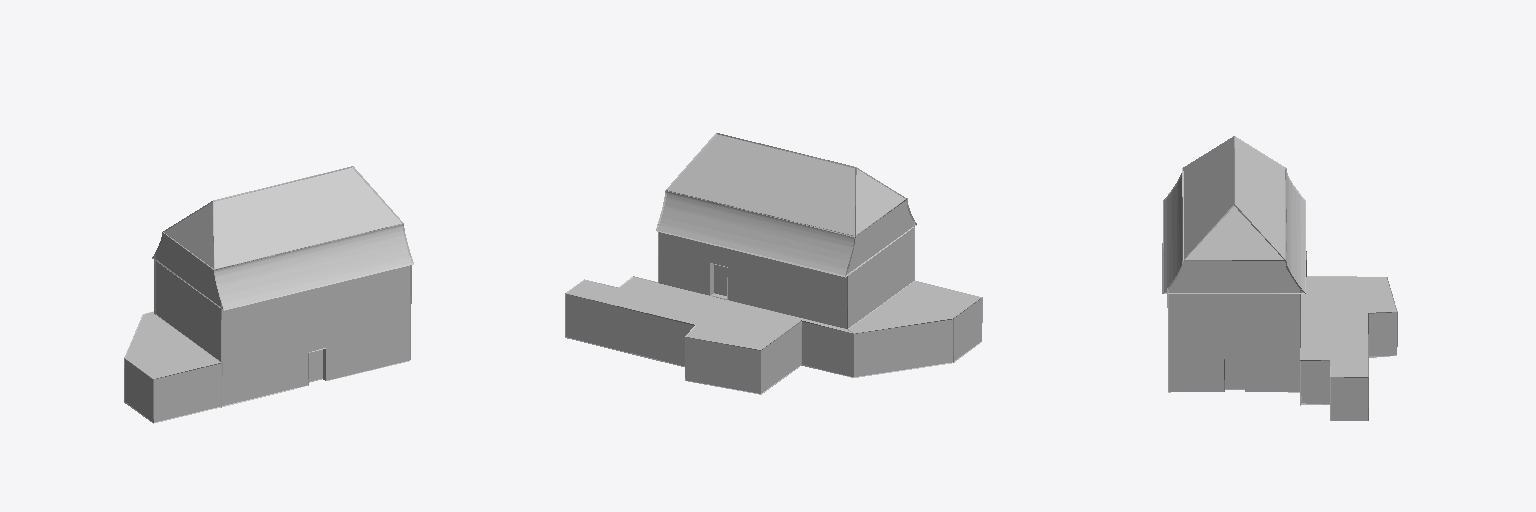
The model's file is W19_lines.obj.
3 renders of one model, left to right at view 1: azimuth 30°, elevation 25°; view 2: azimuth 150°, elevation 25°; view 3: azimuth 270°, elevation 25°, orthographic.
Visible parts, largest first — view 1: Arealplan_V2_v3_Base_Material_-_Glazing, Arealplan_V2_v3.001_Base_Material_-_Glazing.001; view 2: Arealplan_V2_v3_Base_Material_-_Glazing, Arealplan_V2_v3.001_Base_Material_-_Glazing.001; view 3: Arealplan_V2_v3_Base_Material_-_Glazing, Arealplan_V2_v3.001_Base_Material_-_Glazing.001.
Part boxes in pixels (left/top/right/bottom): Arealplan_V2_v3_Base_Material_-_Glazing: left=125, top=167, right=410, bottom=422; Arealplan_V2_v3.001_Base_Material_-_Glazing.001: left=124, top=166, right=413, bottom=423; Arealplan_V2_v3_Base_Material_-_Glazing: left=566, top=134, right=981, bottom=393; Arealplan_V2_v3.001_Base_Material_-_Glazing.001: left=565, top=133, right=982, bottom=394; Arealplan_V2_v3_Base_Material_-_Glazing: left=1164, top=138, right=1396, bottom=420; Arealplan_V2_v3.001_Base_Material_-_Glazing.001: left=1162, top=136, right=1397, bottom=420.
Size of the model in its own units: 1.52 by 0.8096 by 0.9739.